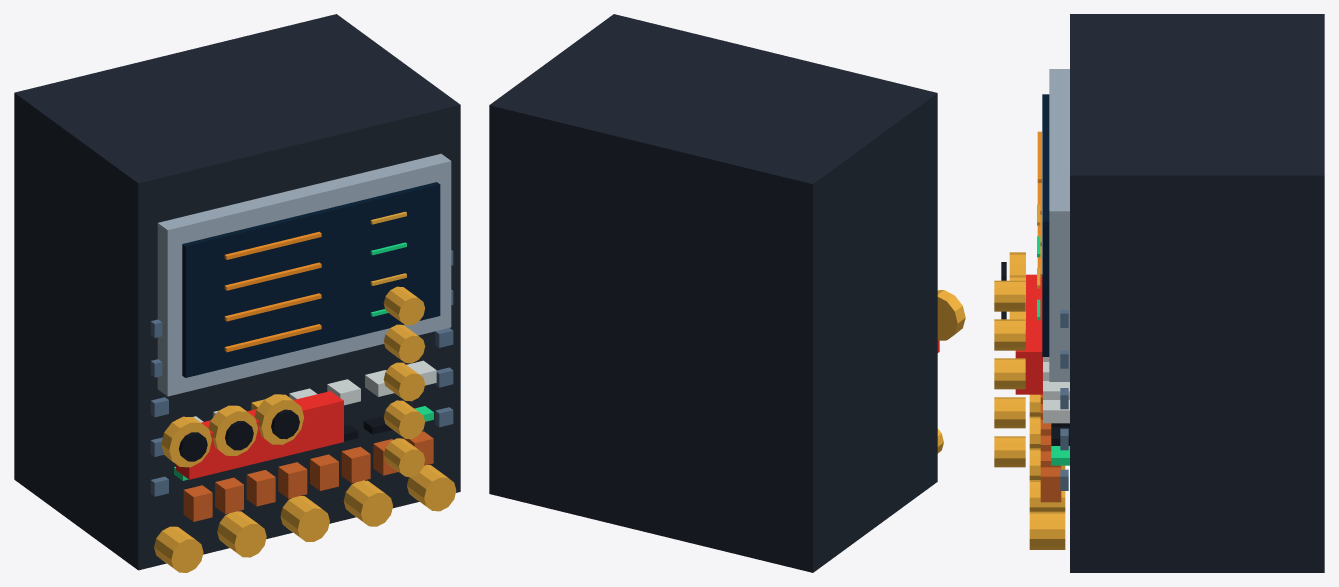
The model's file is 77_L86_W129CriticalFeedbackPatchStation.fbx.
The picture shows the model from 3 angles, left to right: view 1: azimuth 30°, elevation 25°; view 2: azimuth 150°, elevation 25°; view 3: azimuth 270°, elevation 25°; orthographic projection. The views are drawn at different scales.
Visible parts, largest first — view 1: L86_W129CriticalFeedbackPatchStation, L86_W129CriticalFeedbackPatchStation_Part_0010, L86_W129CriticalFeedbackPatchStation_Part_0011, L86_W129CriticalFeedbackPatchStation_Part_0013, L86_W129CriticalFeedbackPatchStation_Part_0015, L86_W129CriticalFeedbackPatchStation_Part_0014, L86_W129CriticalFeedbackPatchStation_Part_0016, L86_W129CriticalFeedbackPatchStation_Part_0012; view 2: L86_W129CriticalFeedbackPatchStation, L86_W129CriticalFeedbackPatchStation_Part_0011; view 3: L86_W129CriticalFeedbackPatchStation, L86_W129CriticalFeedbackPatchStation_Part_0010.
Part boxes in pixels (box(x1,y1,x2,y2)): L86_W129CriticalFeedbackPatchStation: box(14, 14, 460, 572); L86_W129CriticalFeedbackPatchStation_Part_0010: box(176, 391, 343, 479); L86_W129CriticalFeedbackPatchStation_Part_0011: box(161, 416, 211, 467); L86_W129CriticalFeedbackPatchStation_Part_0013: box(208, 405, 257, 455); L86_W129CriticalFeedbackPatchStation_Part_0015: box(254, 394, 304, 444); L86_W129CriticalFeedbackPatchStation_Part_0014: box(225, 421, 253, 450); L86_W129CriticalFeedbackPatchStation_Part_0016: box(271, 409, 299, 439); L86_W129CriticalFeedbackPatchStation_Part_0012: box(179, 432, 207, 461); L86_W129CriticalFeedbackPatchStation: box(489, 14, 943, 572); L86_W129CriticalFeedbackPatchStation_Part_0011: box(937, 290, 965, 340); L86_W129CriticalFeedbackPatchStation: box(994, 14, 1324, 572); L86_W129CriticalFeedbackPatchStation_Part_0010: box(1015, 274, 1042, 394).
Size of the model in its own units: 97.92 by 112 by 84.64.
